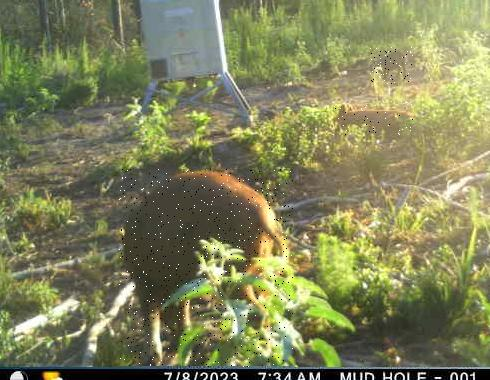Hog: (119, 170, 293, 368), (332, 101, 413, 135), (370, 48, 414, 85)
